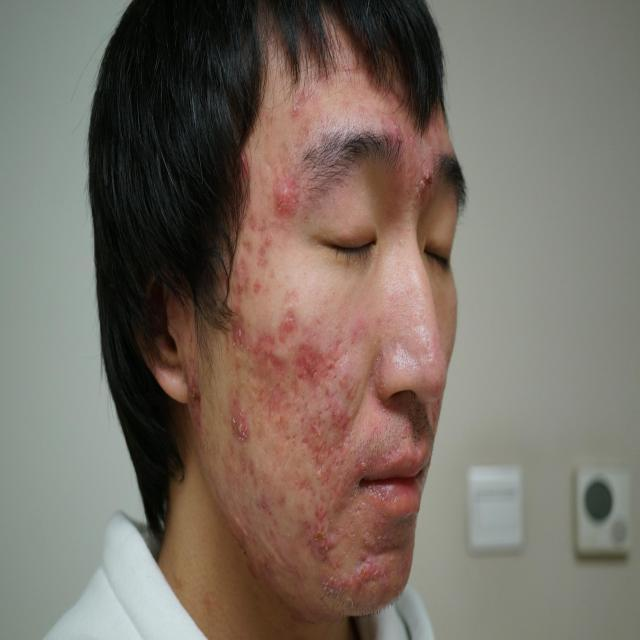Acne: (224, 298, 368, 452), (238, 451, 308, 574), (303, 450, 366, 550), (225, 199, 272, 301), (316, 552, 408, 600), (183, 369, 220, 442), (265, 176, 305, 232), (400, 156, 436, 218), (372, 116, 414, 156), (287, 97, 308, 126)
